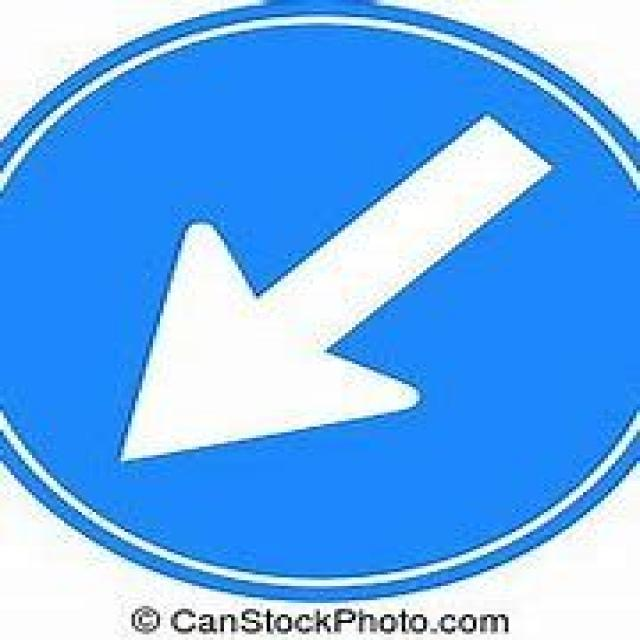COMPULSARY_KEEP_LEFT: (0, 0, 640, 603)
